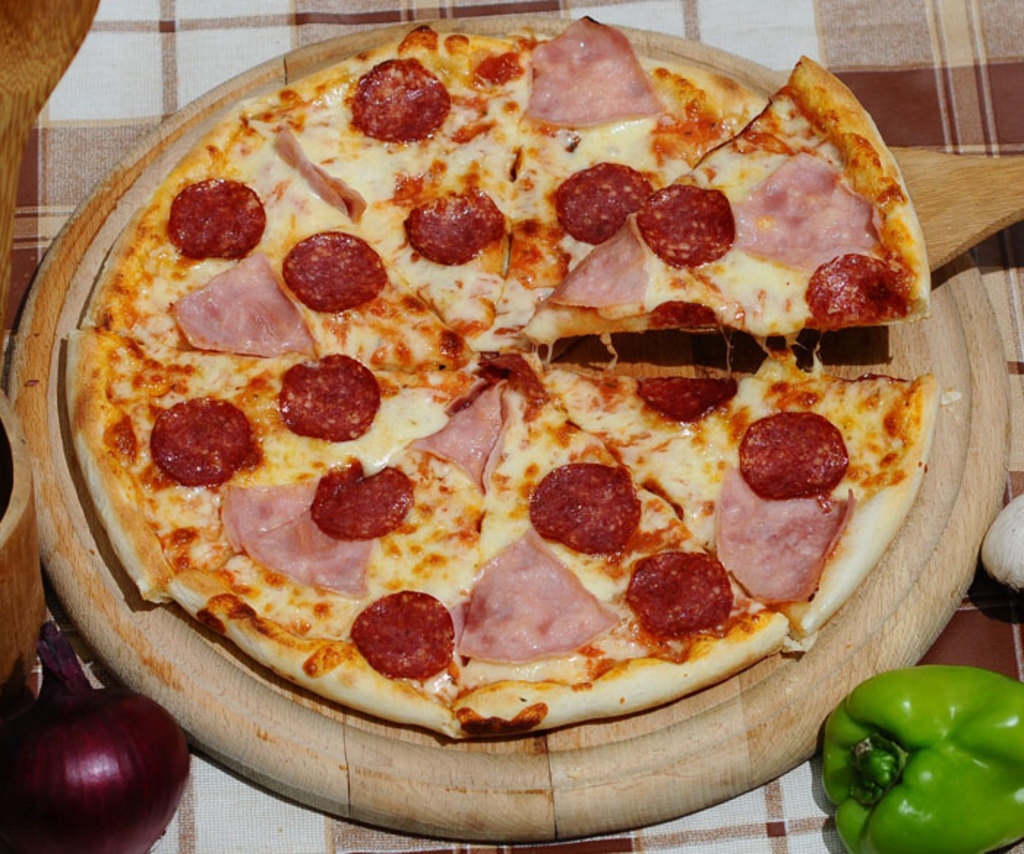Pizza: (43, 40, 950, 798)
